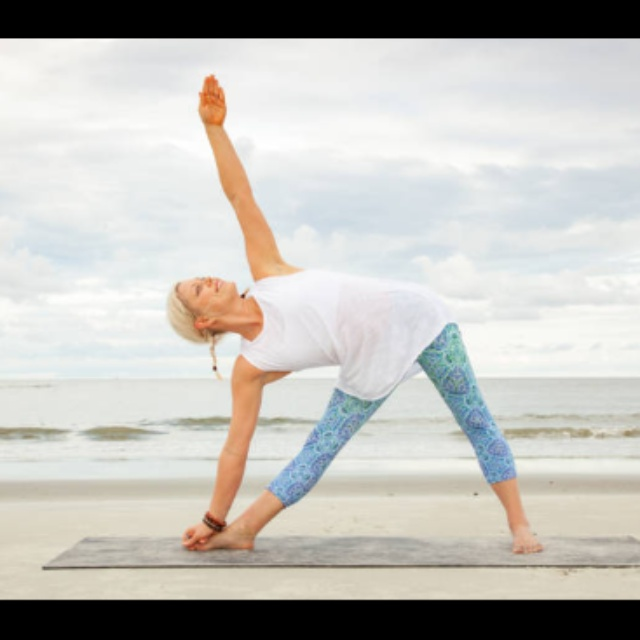Triangle_Pose: (164, 60, 545, 560)
